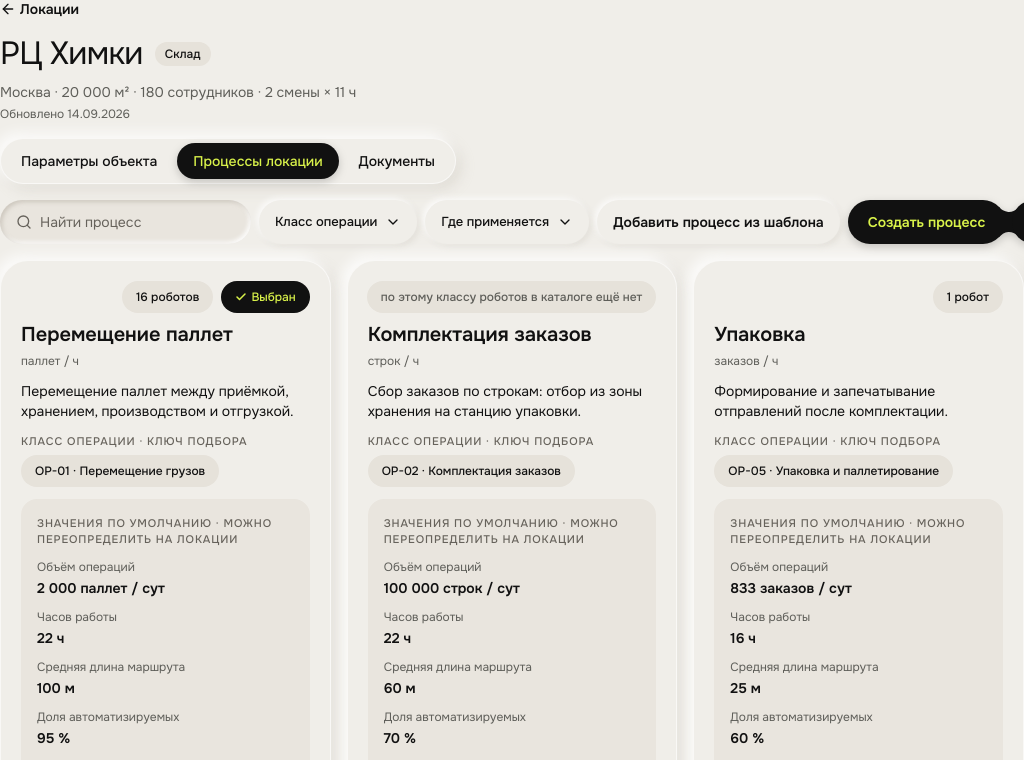
Test: LocationPage (экраны 15 и 17) › окно 15а «Процесс из шаблона» (PRD 10.4) › binds a template copy to the location and shows its card
Click the button "Добавить процесс из шаблона".
click(718, 222)  # box [597,200,840,244]
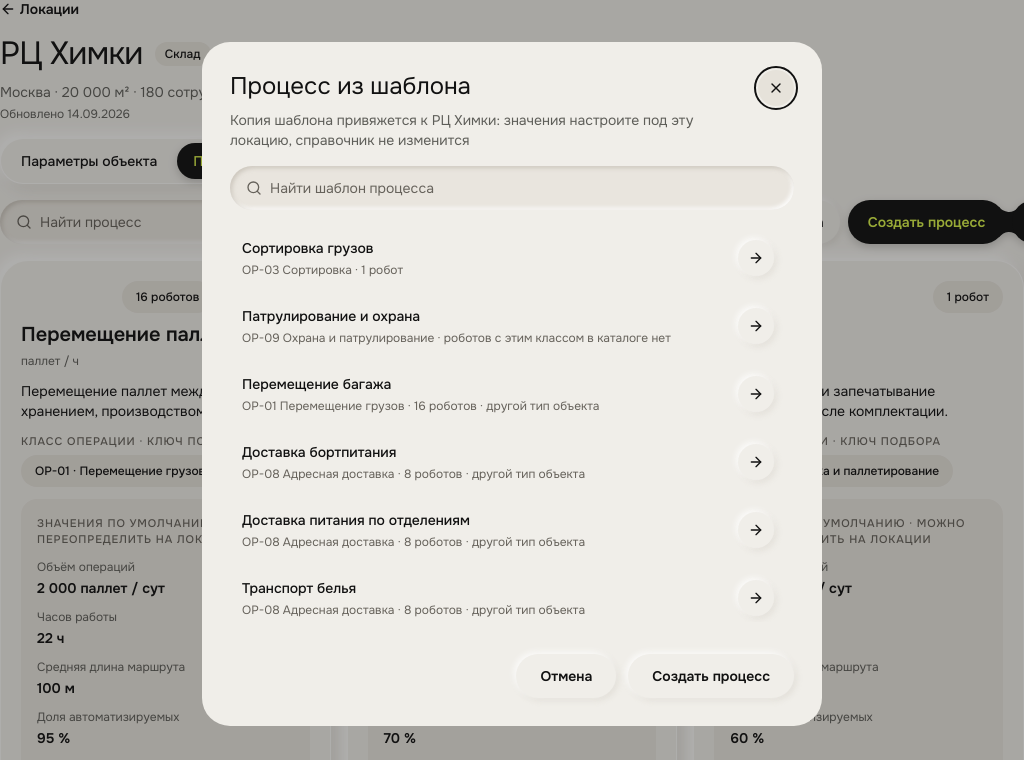
Click the button with aria-label "Добавить «Сортировка грузов» на локацию".
click(308, 248)  # box [230,226,786,290]
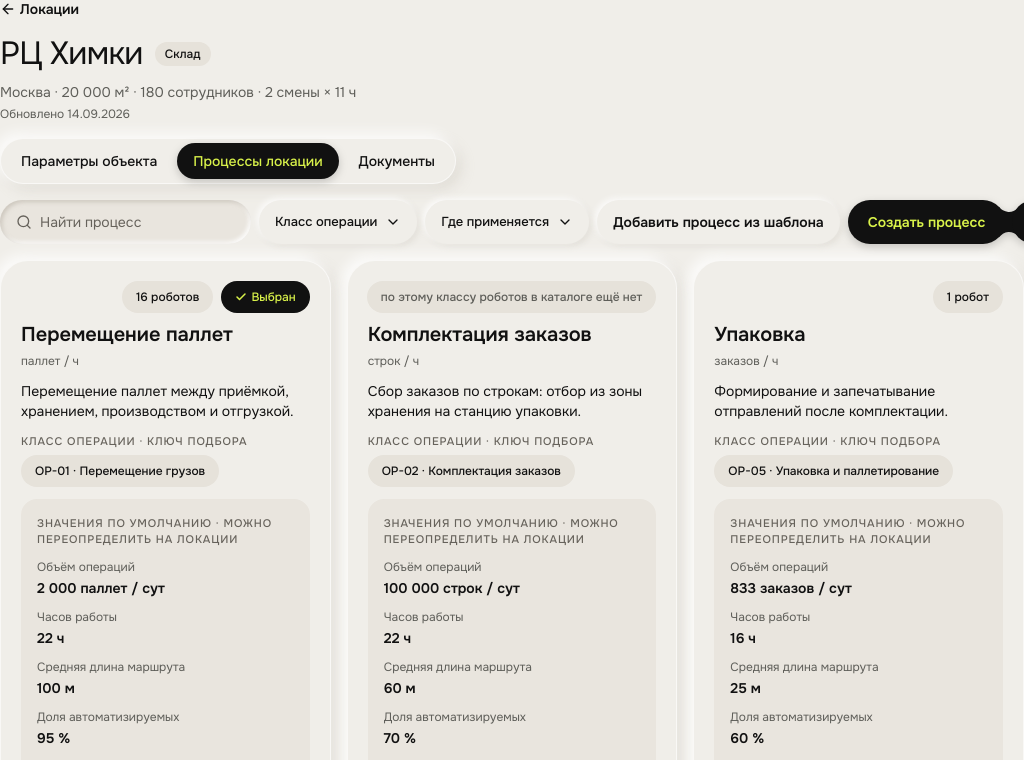
Now the dialog is gone
